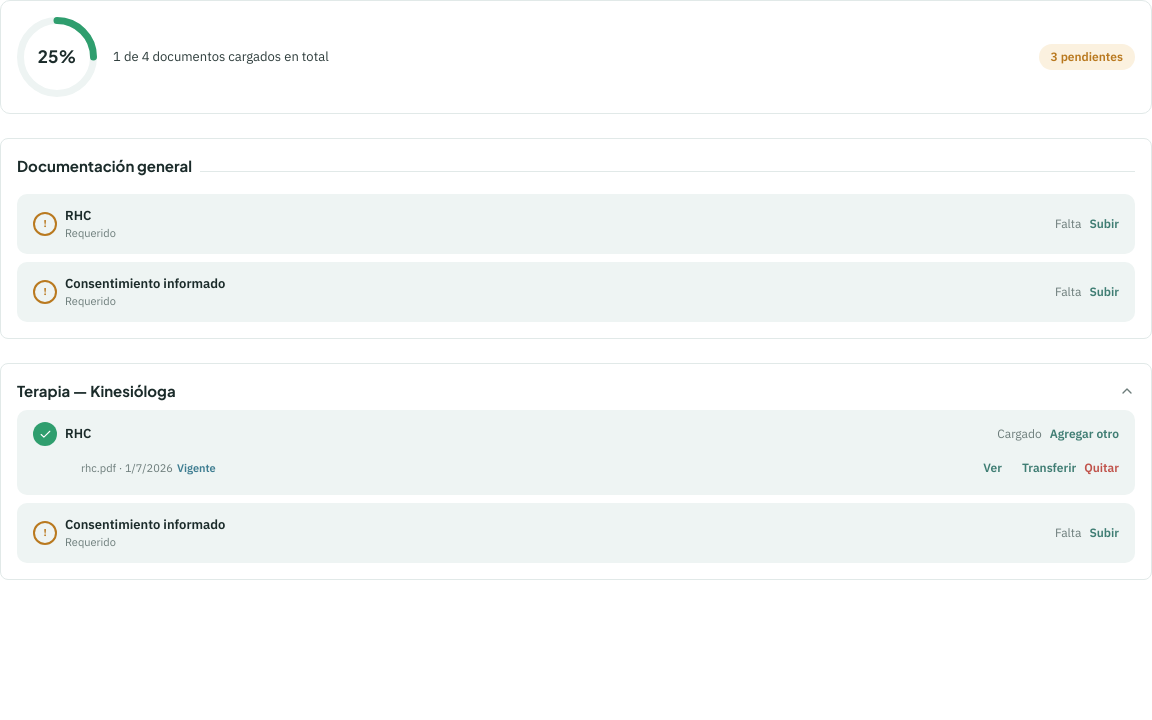
Test: PacienteDocumentos — bloques de actividad colapsables (tasks.md 5.2) › colapsar y volver a expandir un bloque de actividad no pierde el estado del checklist (el documento sigue cargado al reabrir)
Expected: the text "rhc.pdf · 1/7/2026Vigente" is shown, [81,460,216,476]
Step 1. Click the button "Terapia — Kinesióloga" → (96, 390), box [17,380,1135,402]
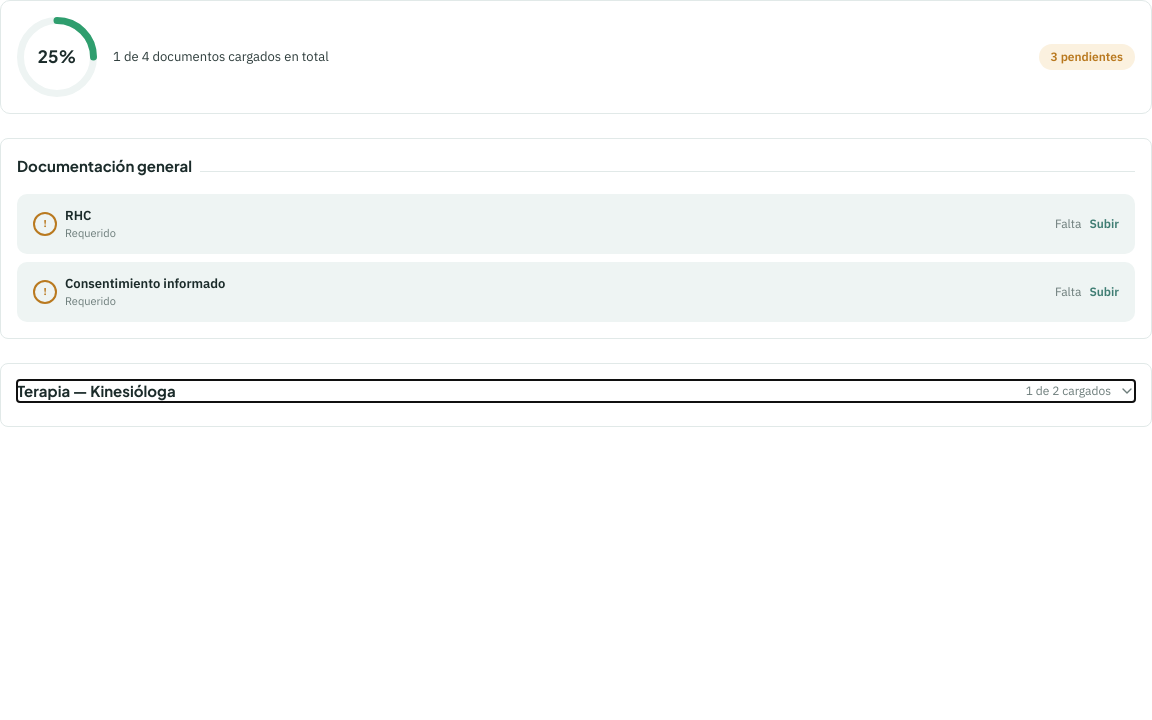
Expected: the button "Terapia — Kinesióloga 1 de 2 cargados" is collapsed
Step 2. Click the button "Terapia — Kinesióloga 1 de 2 cargados" → (96, 390), box [17,380,1135,402]
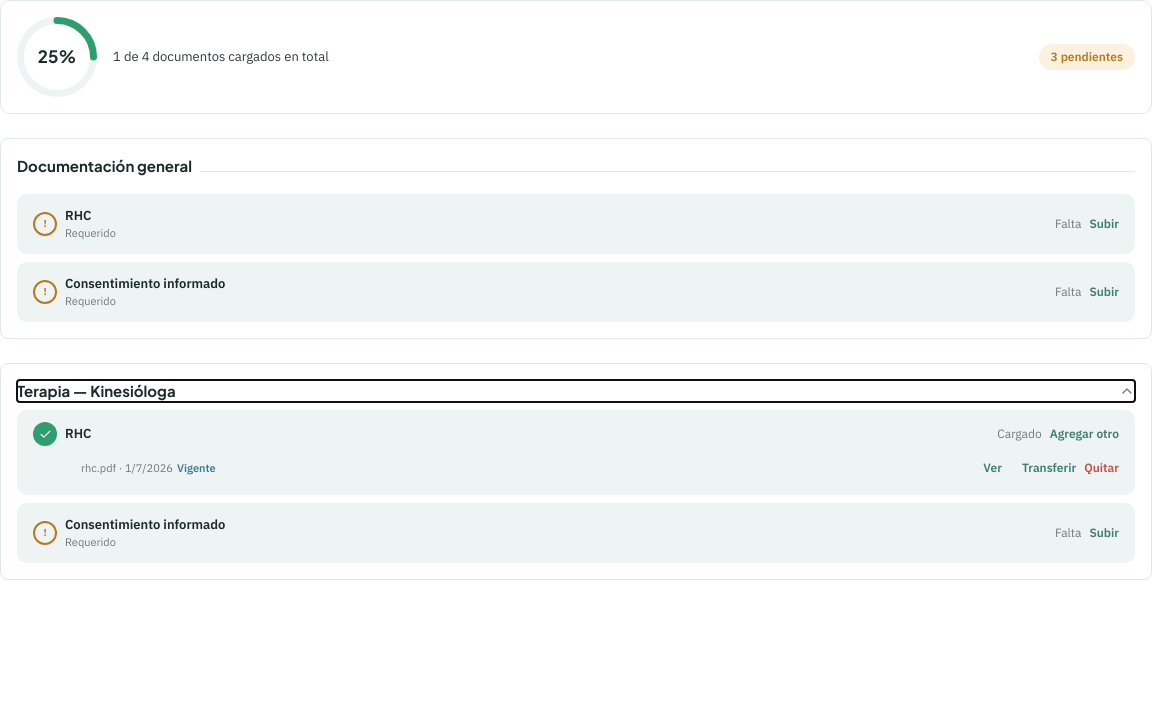
Expected: the text "rhc.pdf · 1/7/2026Vigente" is shown, [81,460,216,476]
Expected: the button "Terapia — Kinesióloga" is expanded, [17,380,1135,402]
